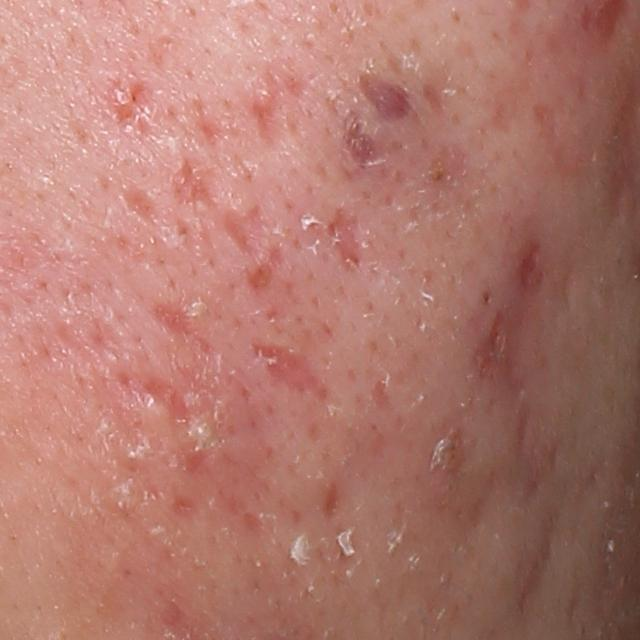atrophic_scar: (498, 236, 546, 446), (247, 341, 335, 398), (352, 76, 418, 129), (169, 156, 222, 213), (325, 206, 364, 276), (117, 183, 167, 234), (243, 245, 289, 294), (222, 209, 262, 257), (153, 301, 195, 340), (323, 472, 343, 522), (370, 371, 388, 412)
